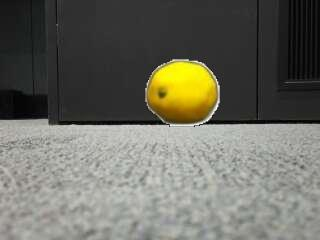lemon: (147, 62, 218, 124)
